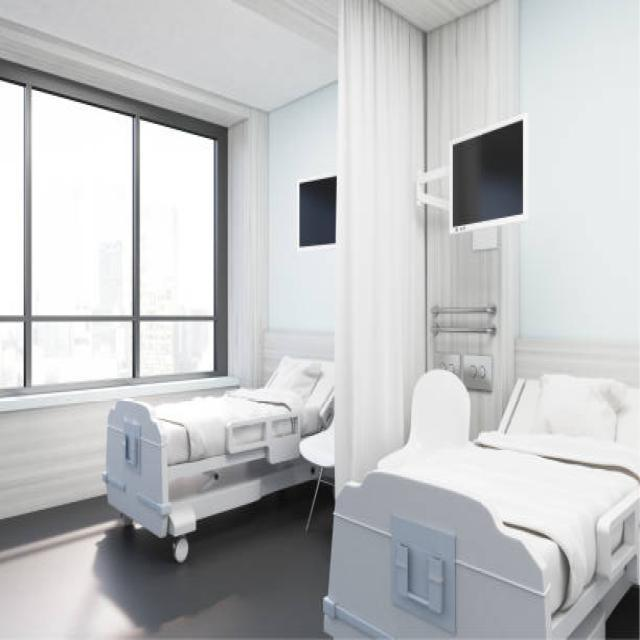Monitor: (404, 104, 536, 264), (290, 160, 342, 264)
bed: (322, 366, 639, 638), (102, 353, 334, 563)
